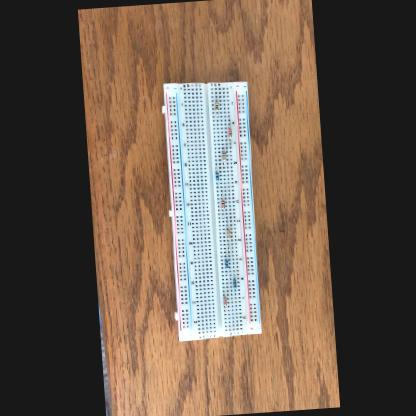breadboard: (157, 76, 263, 341)
resistor: (228, 127, 232, 138), (214, 172, 218, 182), (222, 150, 226, 160), (214, 101, 218, 111), (224, 258, 228, 268), (226, 229, 230, 238), (222, 296, 226, 304), (220, 200, 224, 208), (233, 278, 236, 287)
wire: (215, 182, 218, 191), (228, 116, 230, 128), (224, 268, 227, 276), (226, 238, 228, 250), (226, 217, 228, 228), (220, 190, 222, 200), (228, 138, 230, 147), (215, 164, 217, 172), (222, 209, 224, 217), (222, 289, 224, 295), (233, 273, 235, 278), (222, 160, 224, 164), (222, 146, 224, 150), (216, 111, 217, 117), (215, 95, 216, 101), (225, 252, 226, 258), (223, 306, 224, 310), (234, 288, 235, 291)
